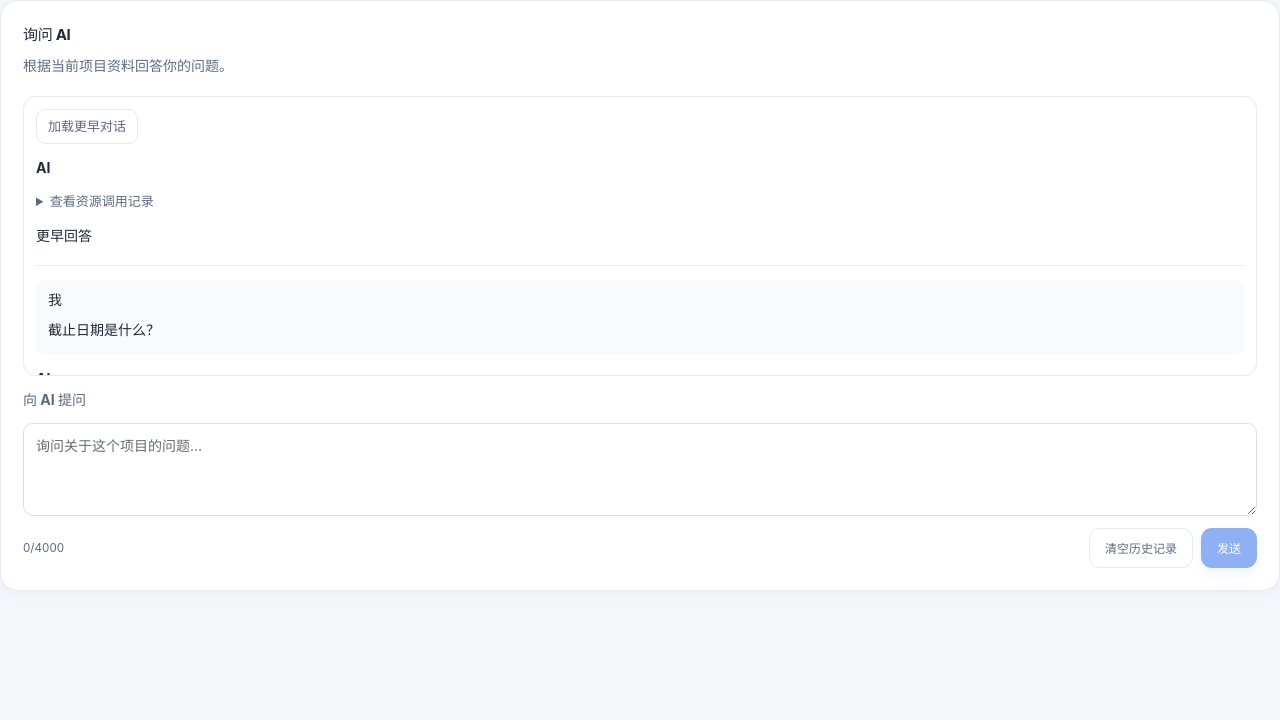
Test case: prepends older chronological history without dropping an answer whose question is on the older page
Check: the text "更早回答" is shown, box 36,227 -> 92,244
Check: the text "更早问题" is not shown
Click the button "加载更早对话". click: coordinates (87, 126)
box: 36,109 -> 138,144
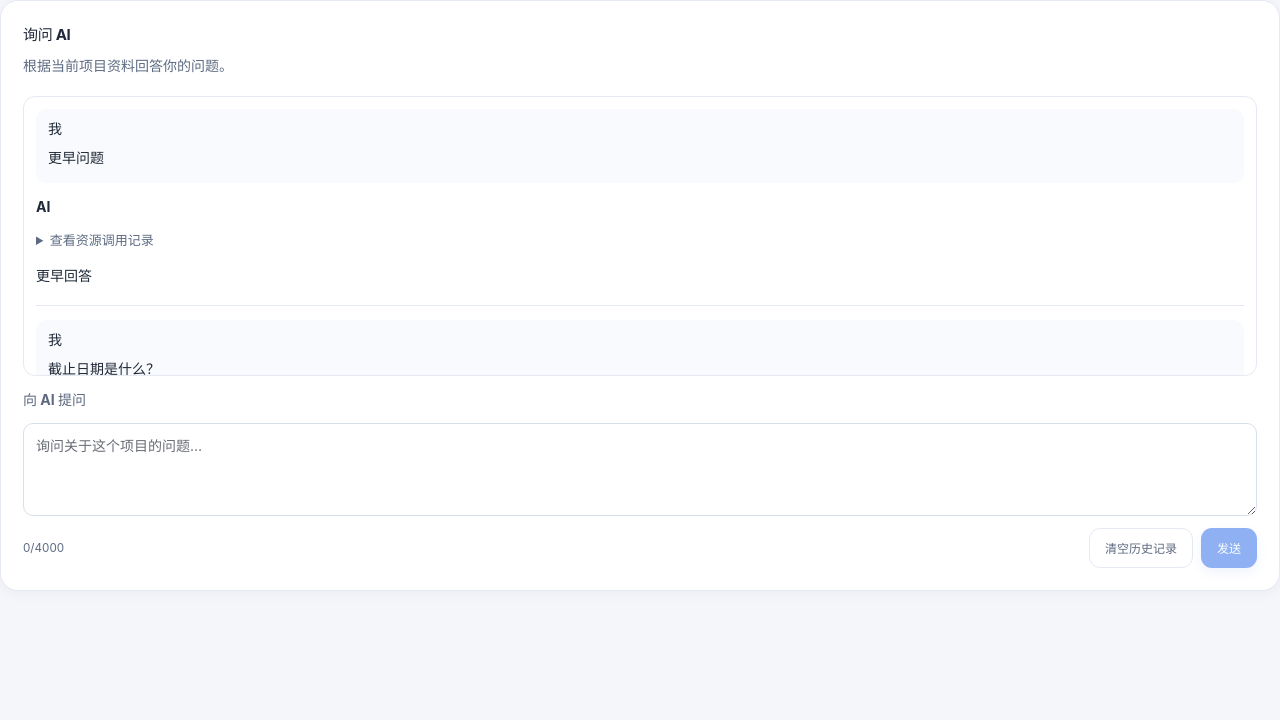
Check: the element named "项目问答" shows "截止日期是什么", box 48,360 -> 160,376
Check: the text "更早问题" is shown, box 48,149 -> 104,166
Check: the element showing "我 更早问题 AI 查看资源调用记录 更早回答" is shown, box 36,109 -> 1244,287
